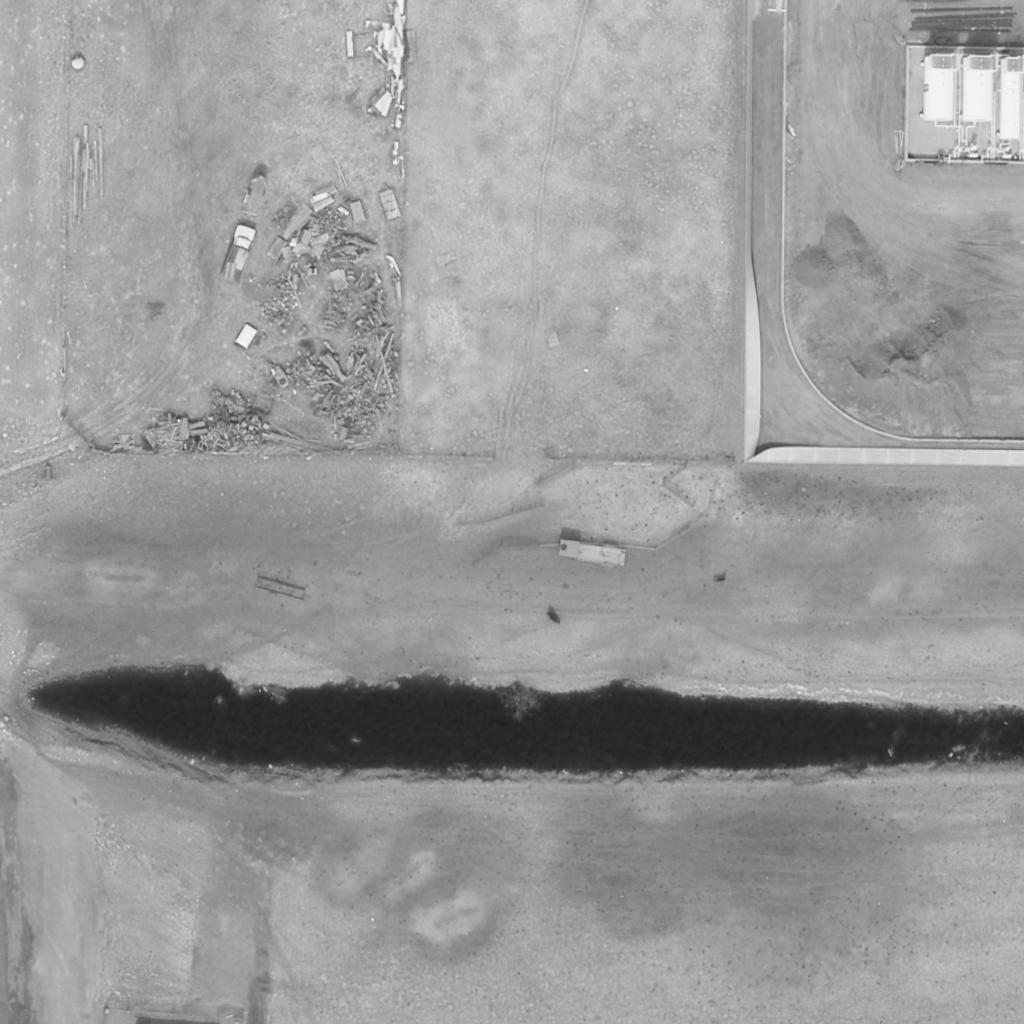vehicle: (214, 224, 260, 288)
